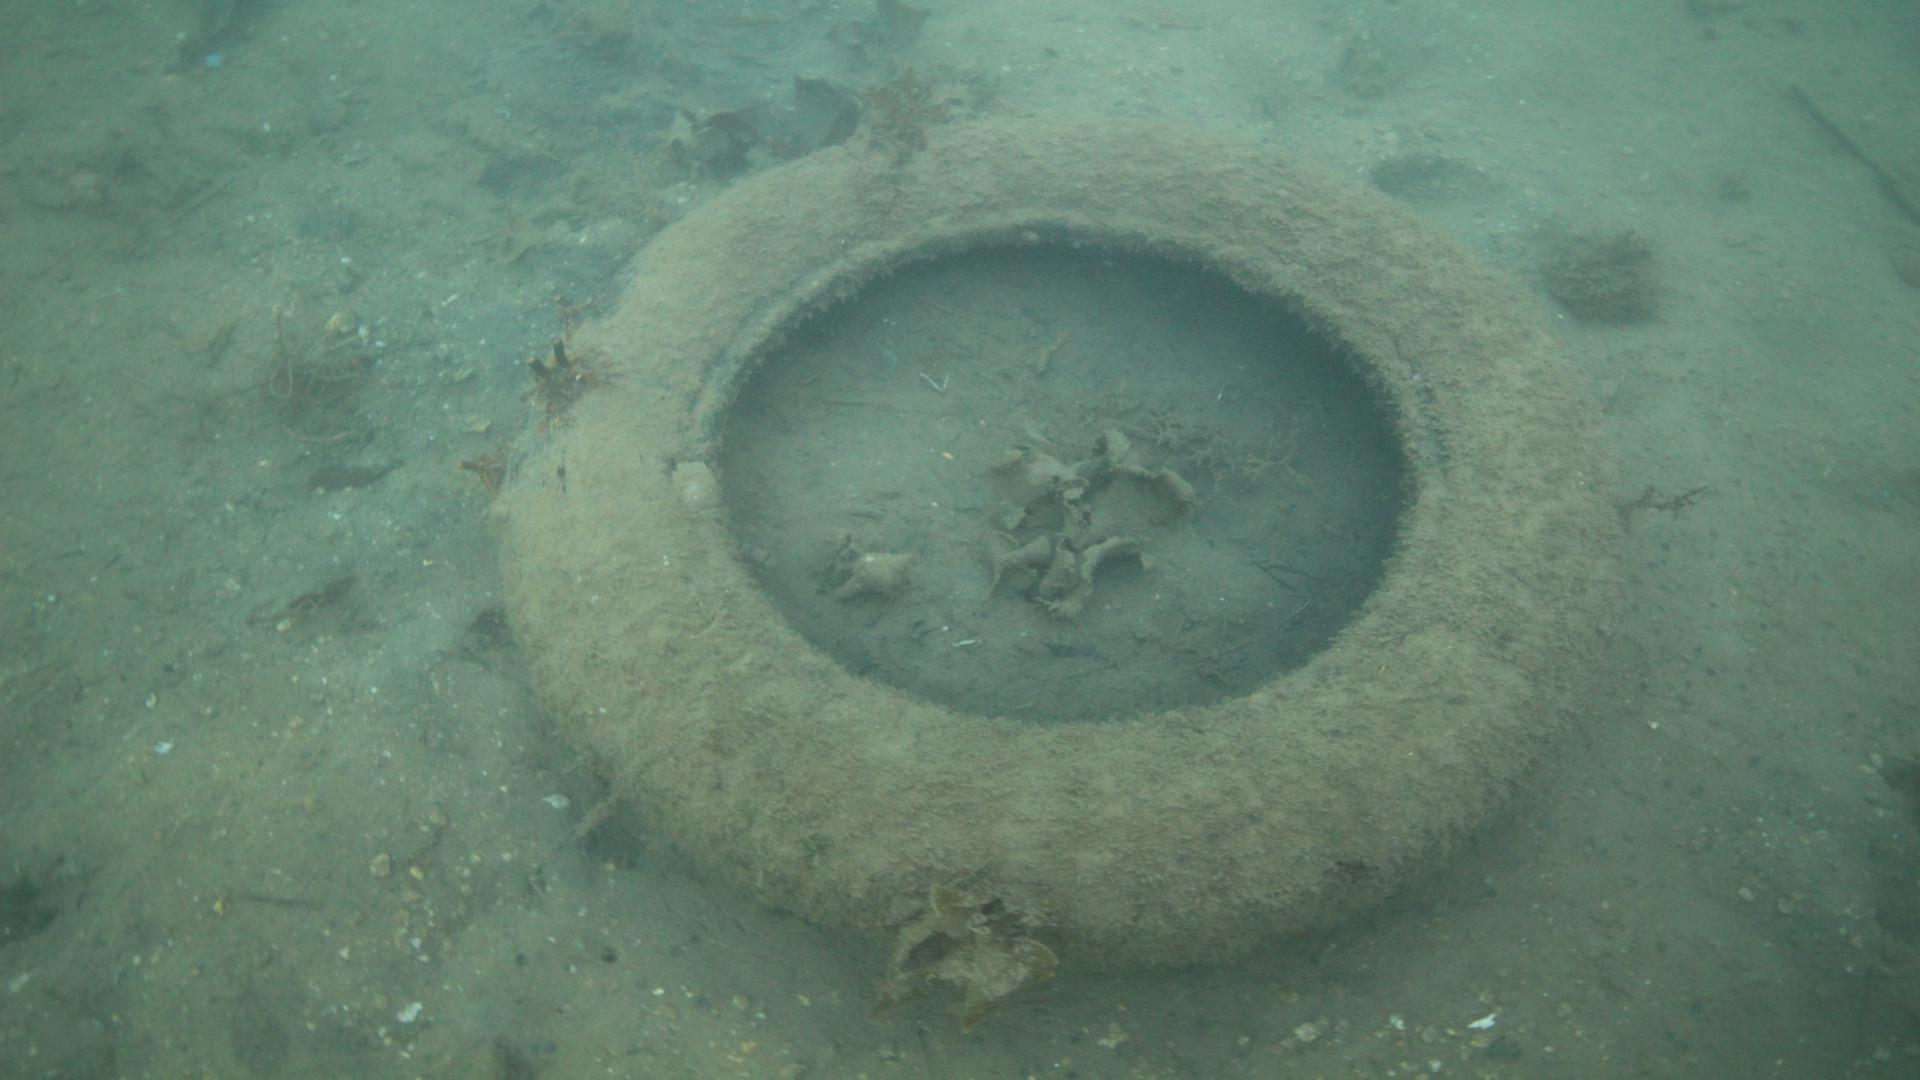tire: (493, 113, 1633, 975)
